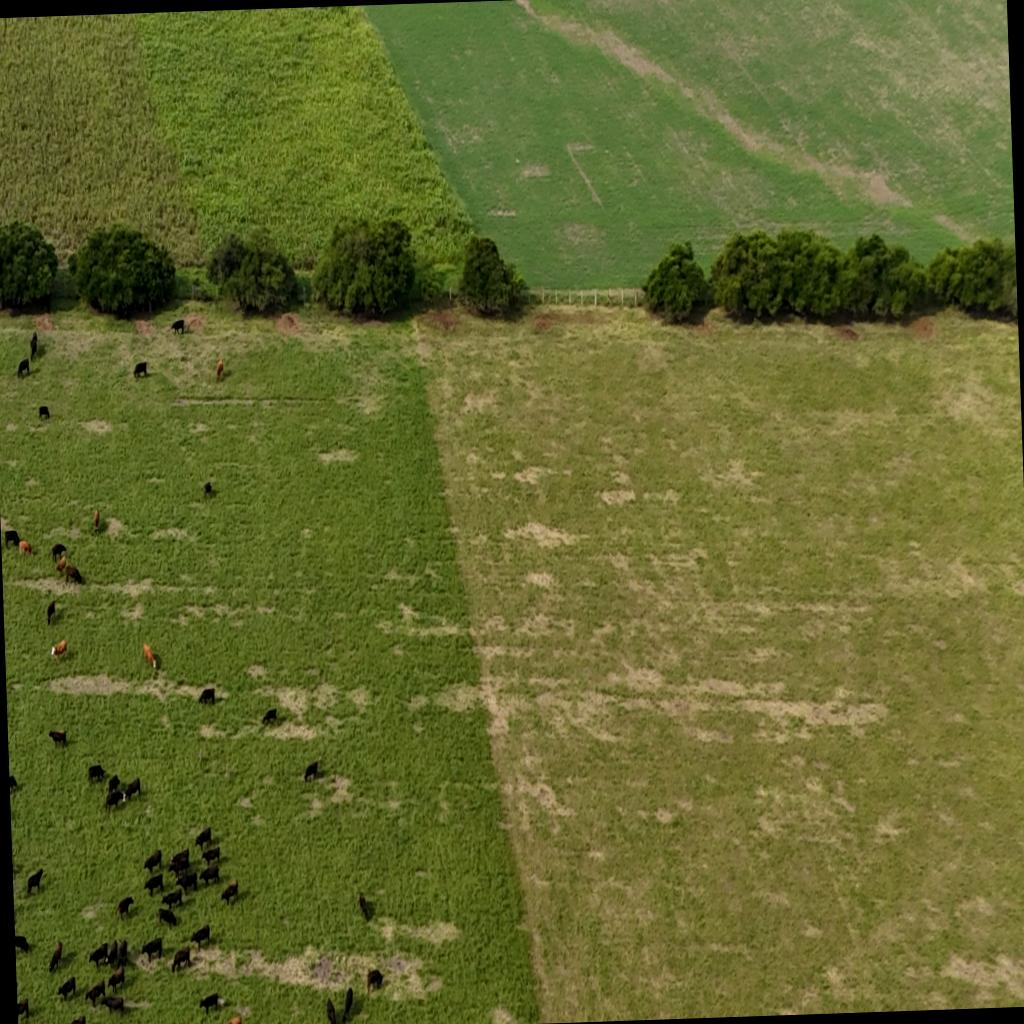cow: (83, 980, 106, 1008), (174, 870, 198, 896), (170, 946, 192, 974), (140, 936, 162, 962), (168, 849, 190, 875), (189, 924, 210, 950), (88, 943, 109, 969), (198, 862, 219, 888), (56, 975, 76, 1002), (107, 964, 126, 992), (198, 991, 220, 1015), (100, 992, 124, 1014), (160, 885, 182, 909), (143, 872, 164, 897), (142, 850, 162, 876), (47, 940, 63, 972), (122, 777, 142, 802), (114, 896, 133, 922), (26, 868, 44, 895), (157, 906, 178, 929), (104, 788, 124, 812), (220, 878, 238, 904), (86, 762, 106, 784), (201, 845, 221, 867), (342, 986, 354, 1022), (194, 825, 212, 849), (142, 642, 156, 672), (366, 966, 382, 992), (106, 938, 120, 967), (64, 566, 84, 586), (302, 760, 320, 782), (50, 543, 68, 565), (50, 638, 68, 660), (48, 728, 67, 748), (357, 892, 370, 921), (14, 934, 30, 956), (325, 996, 337, 1024), (116, 938, 128, 966), (106, 774, 121, 796), (4, 530, 20, 550), (197, 687, 214, 705), (17, 997, 30, 1020), (16, 358, 30, 379), (261, 706, 277, 724), (132, 361, 148, 379), (18, 538, 33, 556), (46, 600, 56, 624), (54, 555, 66, 575), (29, 332, 38, 358), (170, 318, 184, 334), (64, 1014, 86, 1024), (92, 507, 100, 534), (202, 481, 214, 498), (214, 360, 224, 380), (221, 1014, 241, 1024), (38, 406, 50, 421), (9, 774, 19, 792)
